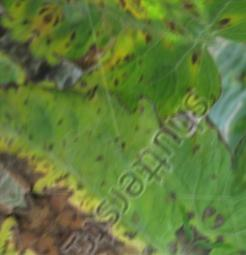Tomato leaf bacterial spot: (0, 0, 246, 255), (6, 0, 243, 186)
